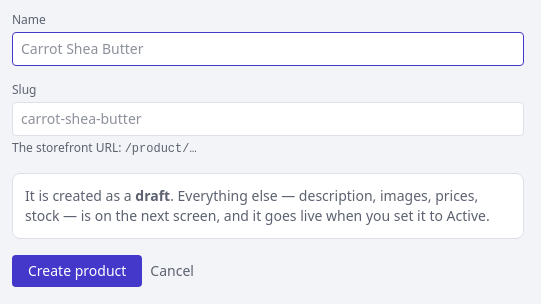
Test: NewProductForm › resumes auto-filling if the slug is cleared
The image size is (541, 304).
Type "Kids" into the field with placeholder "Carrot Shea Butter" at (268, 49), box [12,32,524,66]
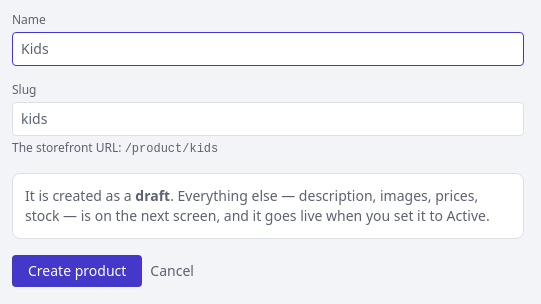
Clear the field with placeholder "carrot-shea-butter" at (268, 119), box [12,102,524,136]
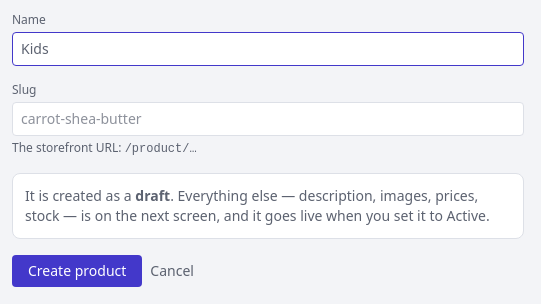
Replace the text in the field with placeholder "Carrot Shea Butter" with "Kids Shampoo" at (268, 49), box [12,32,524,66]
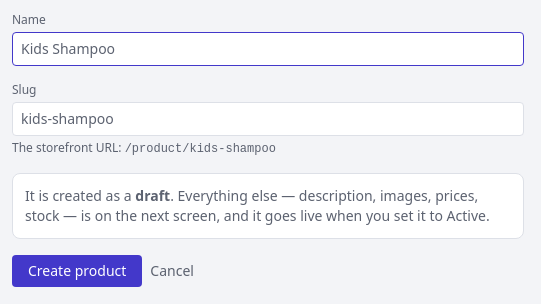
Expected: the field with placeholder "carrot-shea-butter" holds "kids-shampoo", [12,102,524,136]
